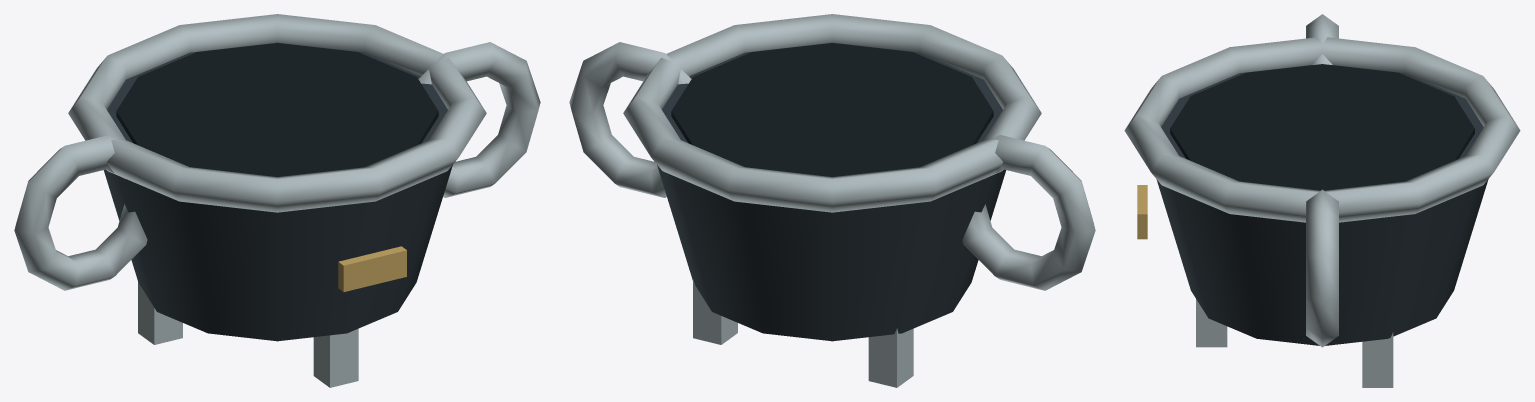
Rendered from fixed-pot.glb.
3 renders of one model, left to right at view 1: azimuth 30°, elevation 25°; view 2: azimuth 150°, elevation 25°; view 3: azimuth 270°, elevation 25°, orthographic. The views are drawn at different scales.
Visible parts, largest first — view 1: piece_whole; view 2: piece_whole; view 3: piece_whole.
Boxes of the visible parts, x1=… form: piece_whole: x1=14, y1=14, x2=540, y2=387; piece_whole: x1=569, y1=14, x2=1095, y2=387; piece_whole: x1=1124, y1=14, x2=1520, y2=387.
Size of the model in its own units: 0.83 by 0.3644 by 0.572.
